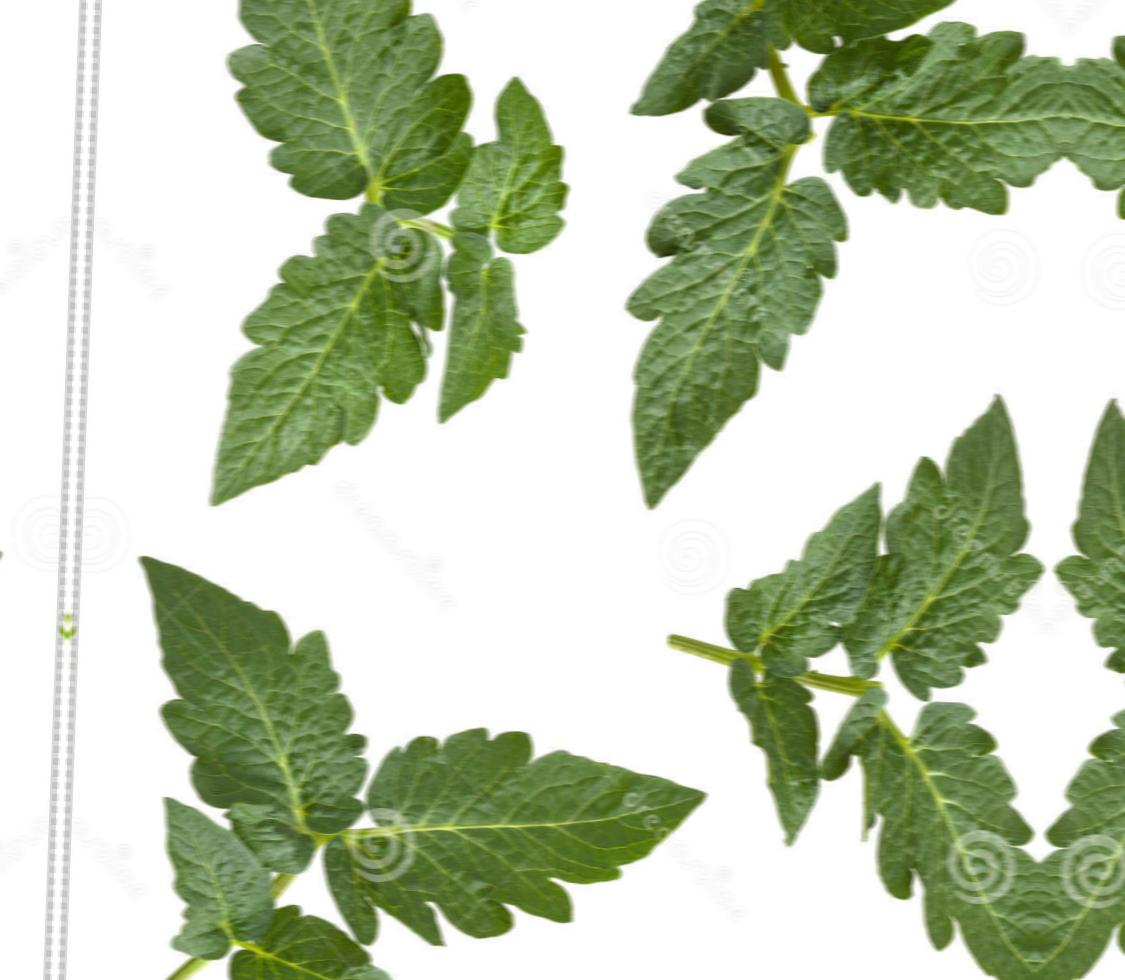Tomato leaf: (585, 106, 862, 547), (289, 715, 723, 979), (180, 211, 460, 547), (833, 355, 1058, 698), (173, 0, 503, 221), (809, 0, 1071, 245), (827, 691, 1045, 980)
